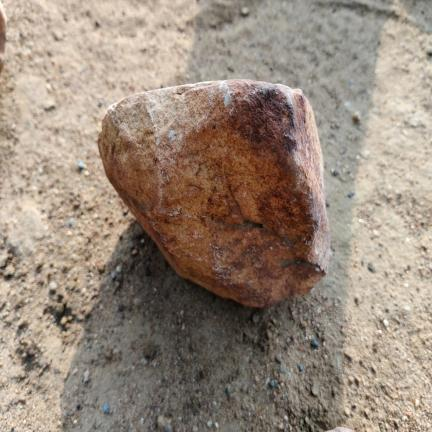Rocks: (99, 80, 331, 306), (0, 1, 6, 72), (158, 416, 171, 431), (327, 427, 353, 431), (83, 371, 89, 383)
